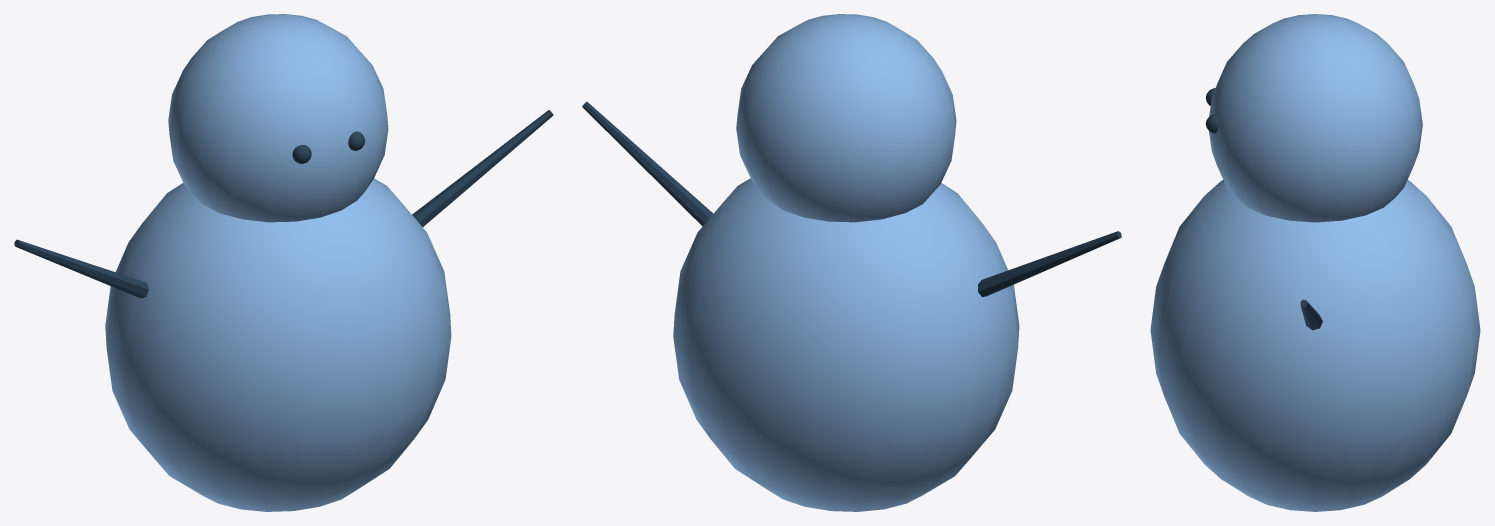
File: snowman.glb
3 views of the same model, side by side, from view 1: azimuth 30°, elevation 25°; view 2: azimuth 150°, elevation 25°; view 3: azimuth 270°, elevation 25° (orthographic).
Parts seen in each view (by area): view 1: snowman; view 2: snowman; view 3: snowman.
Boxes of the visible parts, x1,y1,x2,y2 form: snowman: [14, 14, 553, 511]; snowman: [582, 14, 1121, 511]; snowman: [1150, 14, 1480, 511].
Bounding box in the file's own units: 1.61 × 1.36 × 0.86.
